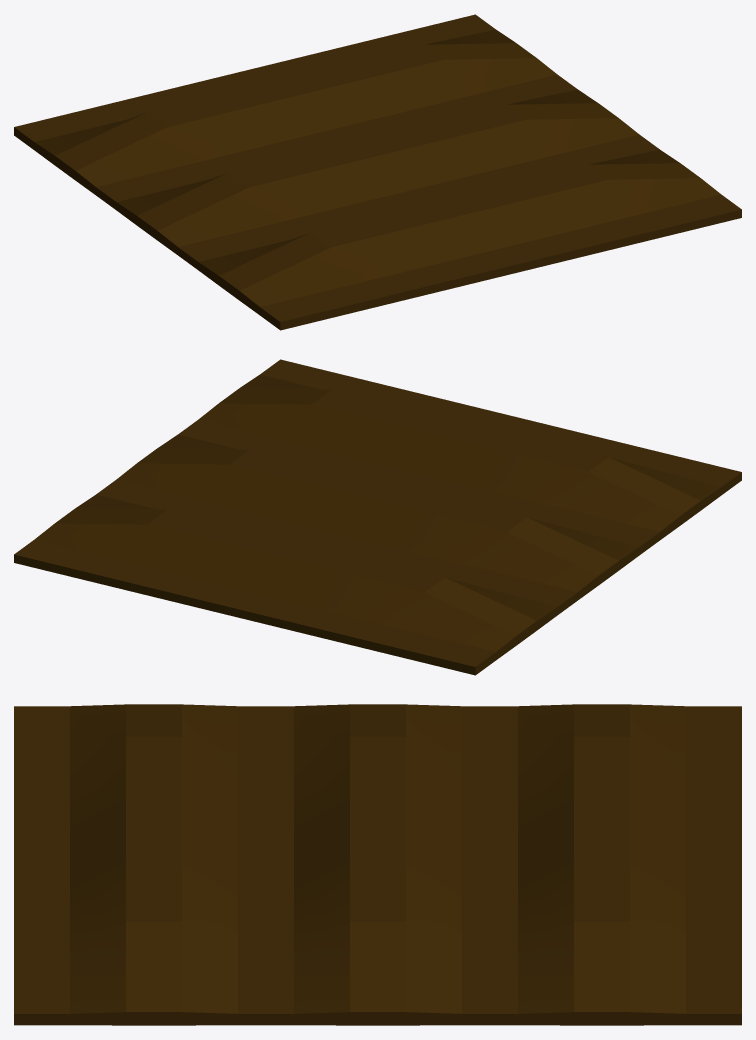
File: WetSoil.fbx
3 renders of one model, top to bottom at view 1: azimuth 30°, elevation 25°; view 2: azimuth 150°, elevation 25°; view 3: azimuth 270°, elevation 25°, orthographic. The views are drawn at different scales.
Parts seen in each view (by area): view 1: Cube.004; view 2: Cube.004; view 3: Cube.004.
Boxes of the visible parts, x1,y1,x2,y2 form: Cube.004: [14, 14, 741, 330]; Cube.004: [14, 359, 741, 675]; Cube.004: [14, 704, 741, 1025].
Size of the model in its own units: 44.94 by 2.87 by 44.94.
